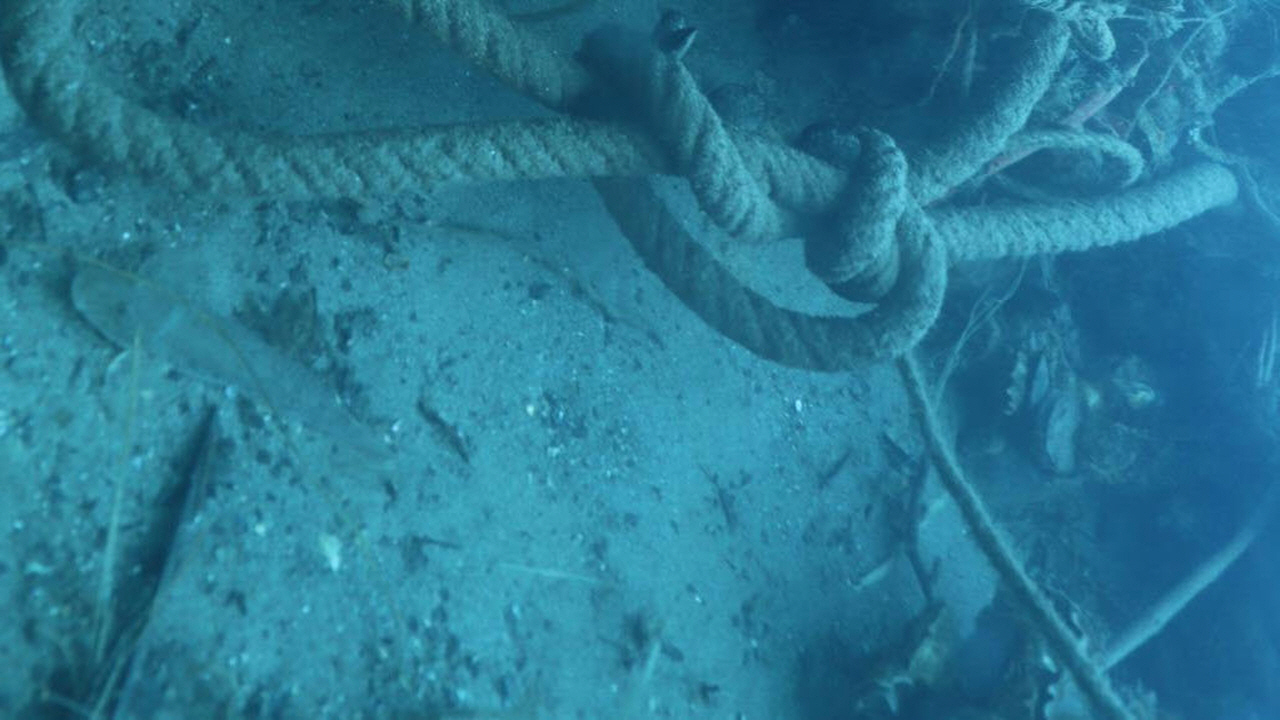bundle of ropes: (0, 0, 1239, 720)
